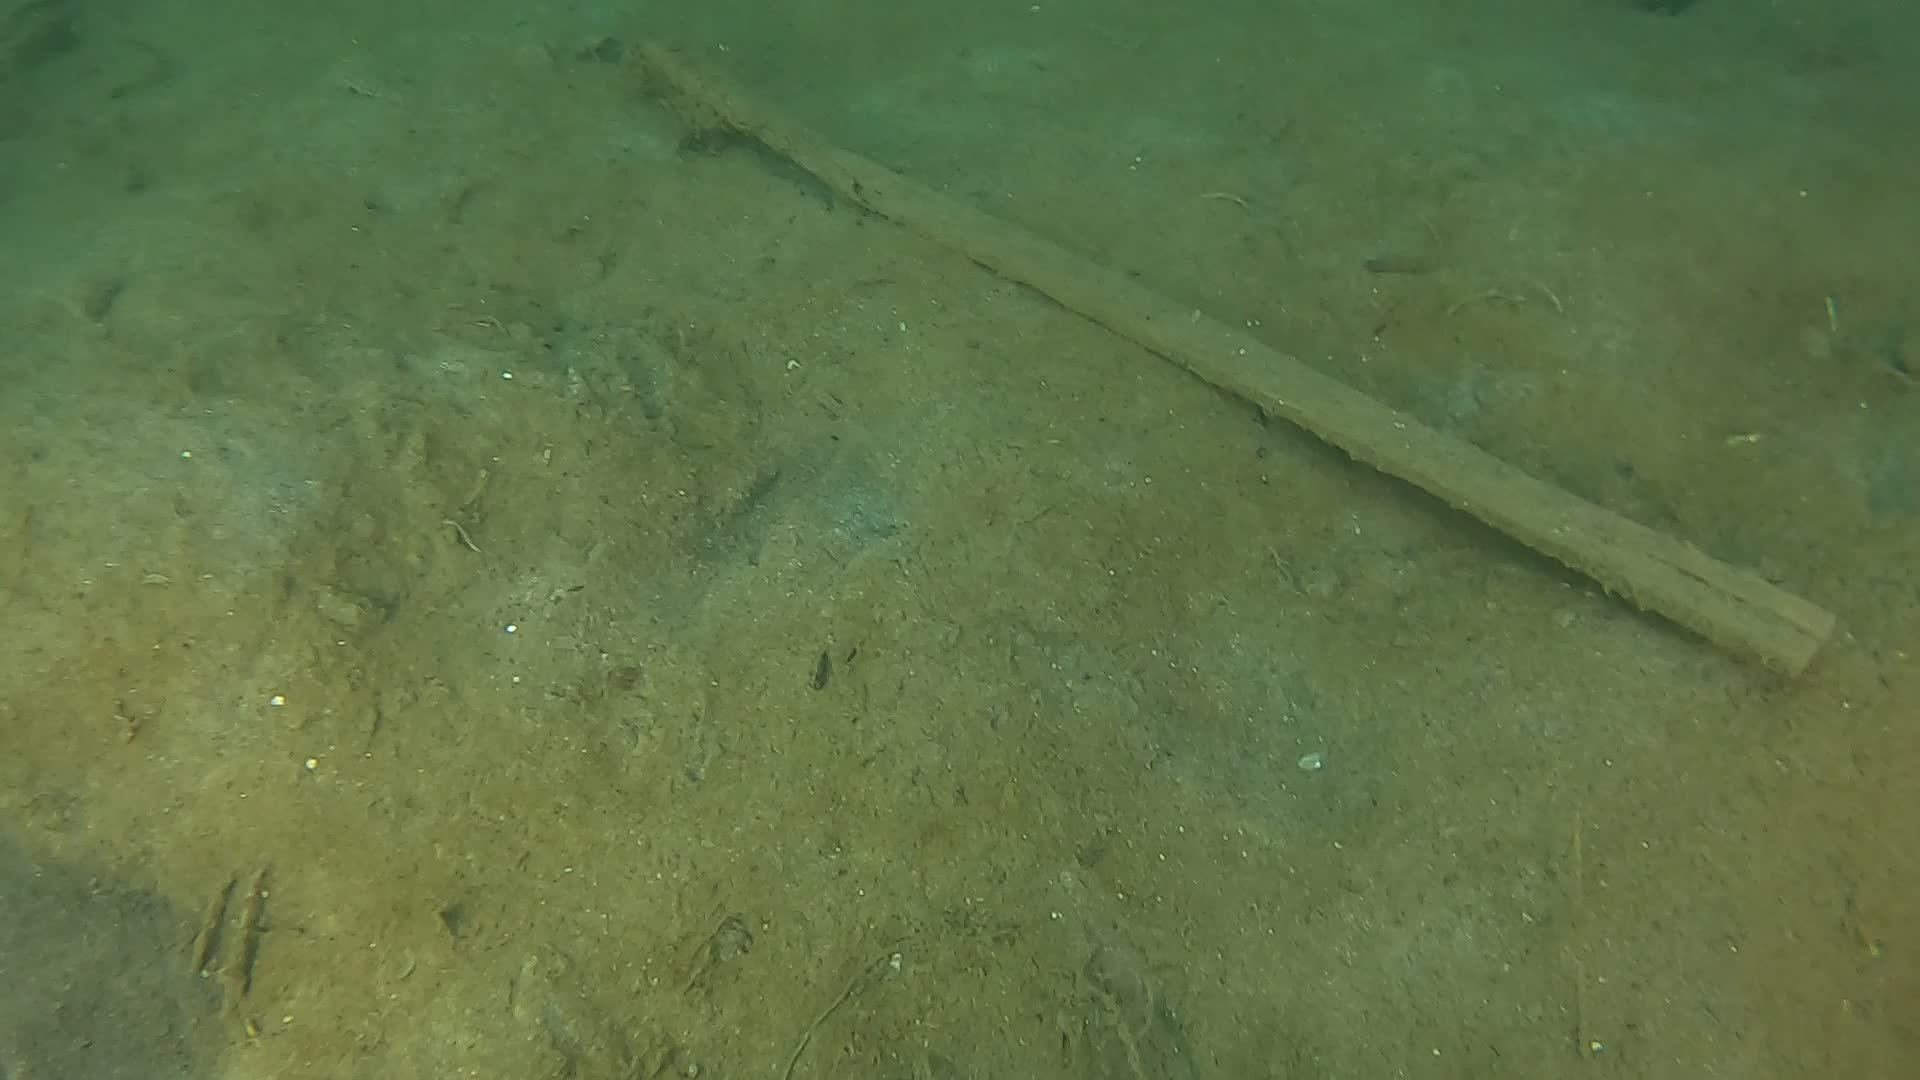wood: (642, 40, 1836, 682)
